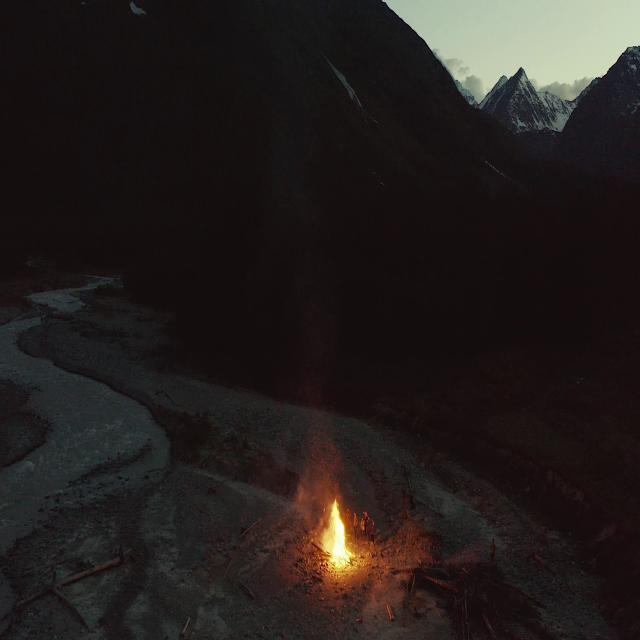Fire: (315, 489, 355, 573)
